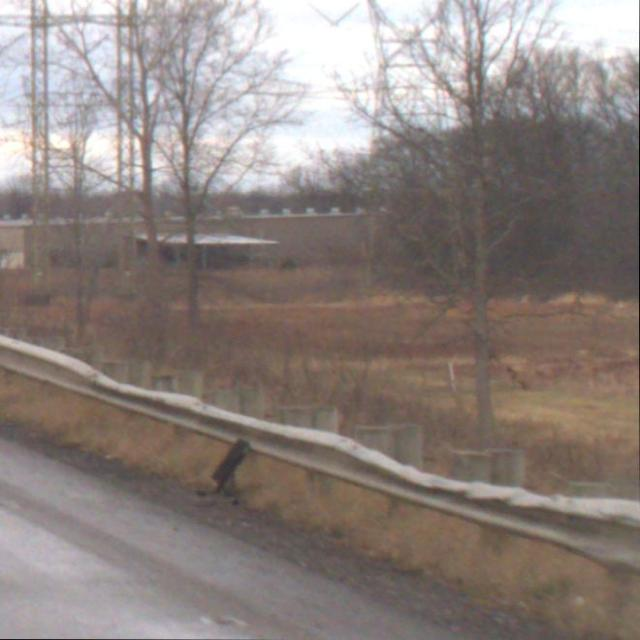Guard rail: (2, 313, 640, 620)
